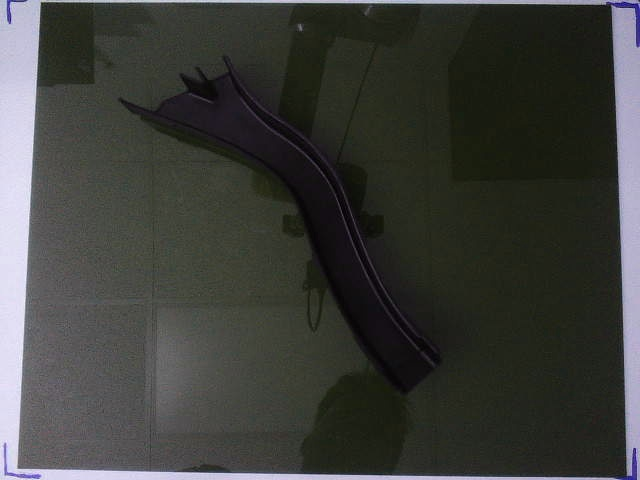887_B-Under: (119, 56, 442, 393)
